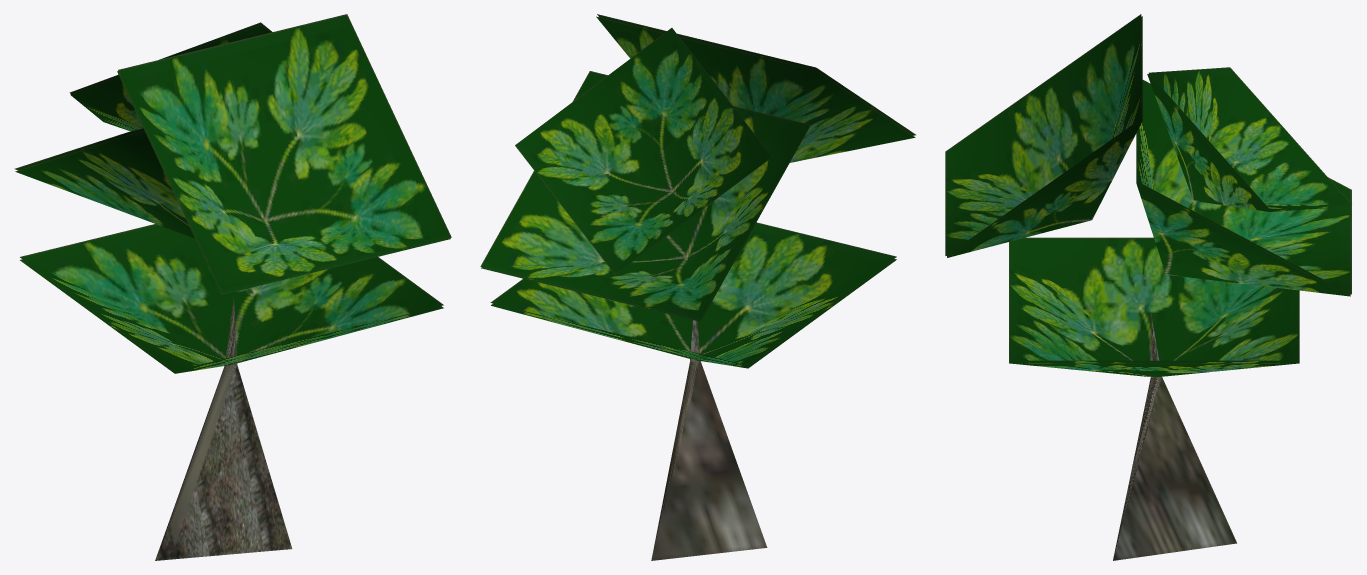
Rendered from leaf_palmbush_l2.fbx.
3 renders of one model, left to right at view 1: azimuth 30°, elevation 25°; view 2: azimuth 150°, elevation 25°; view 3: azimuth 270°, elevation 25°, orthographic. The views are drawn at different scales.
Visible parts, largest first — view 1: mesh_node; view 2: mesh_node; view 3: mesh_node.
Part boxes in pixels (x1=…): mesh_node: x1=14, y1=14, x2=451, y2=560; mesh_node: x1=480, y1=14, x2=915, y2=560; mesh_node: x1=945, y1=14, x2=1351, y2=560.
Size of the model in its own units: 2.04 by 3.74 by 2.86.
